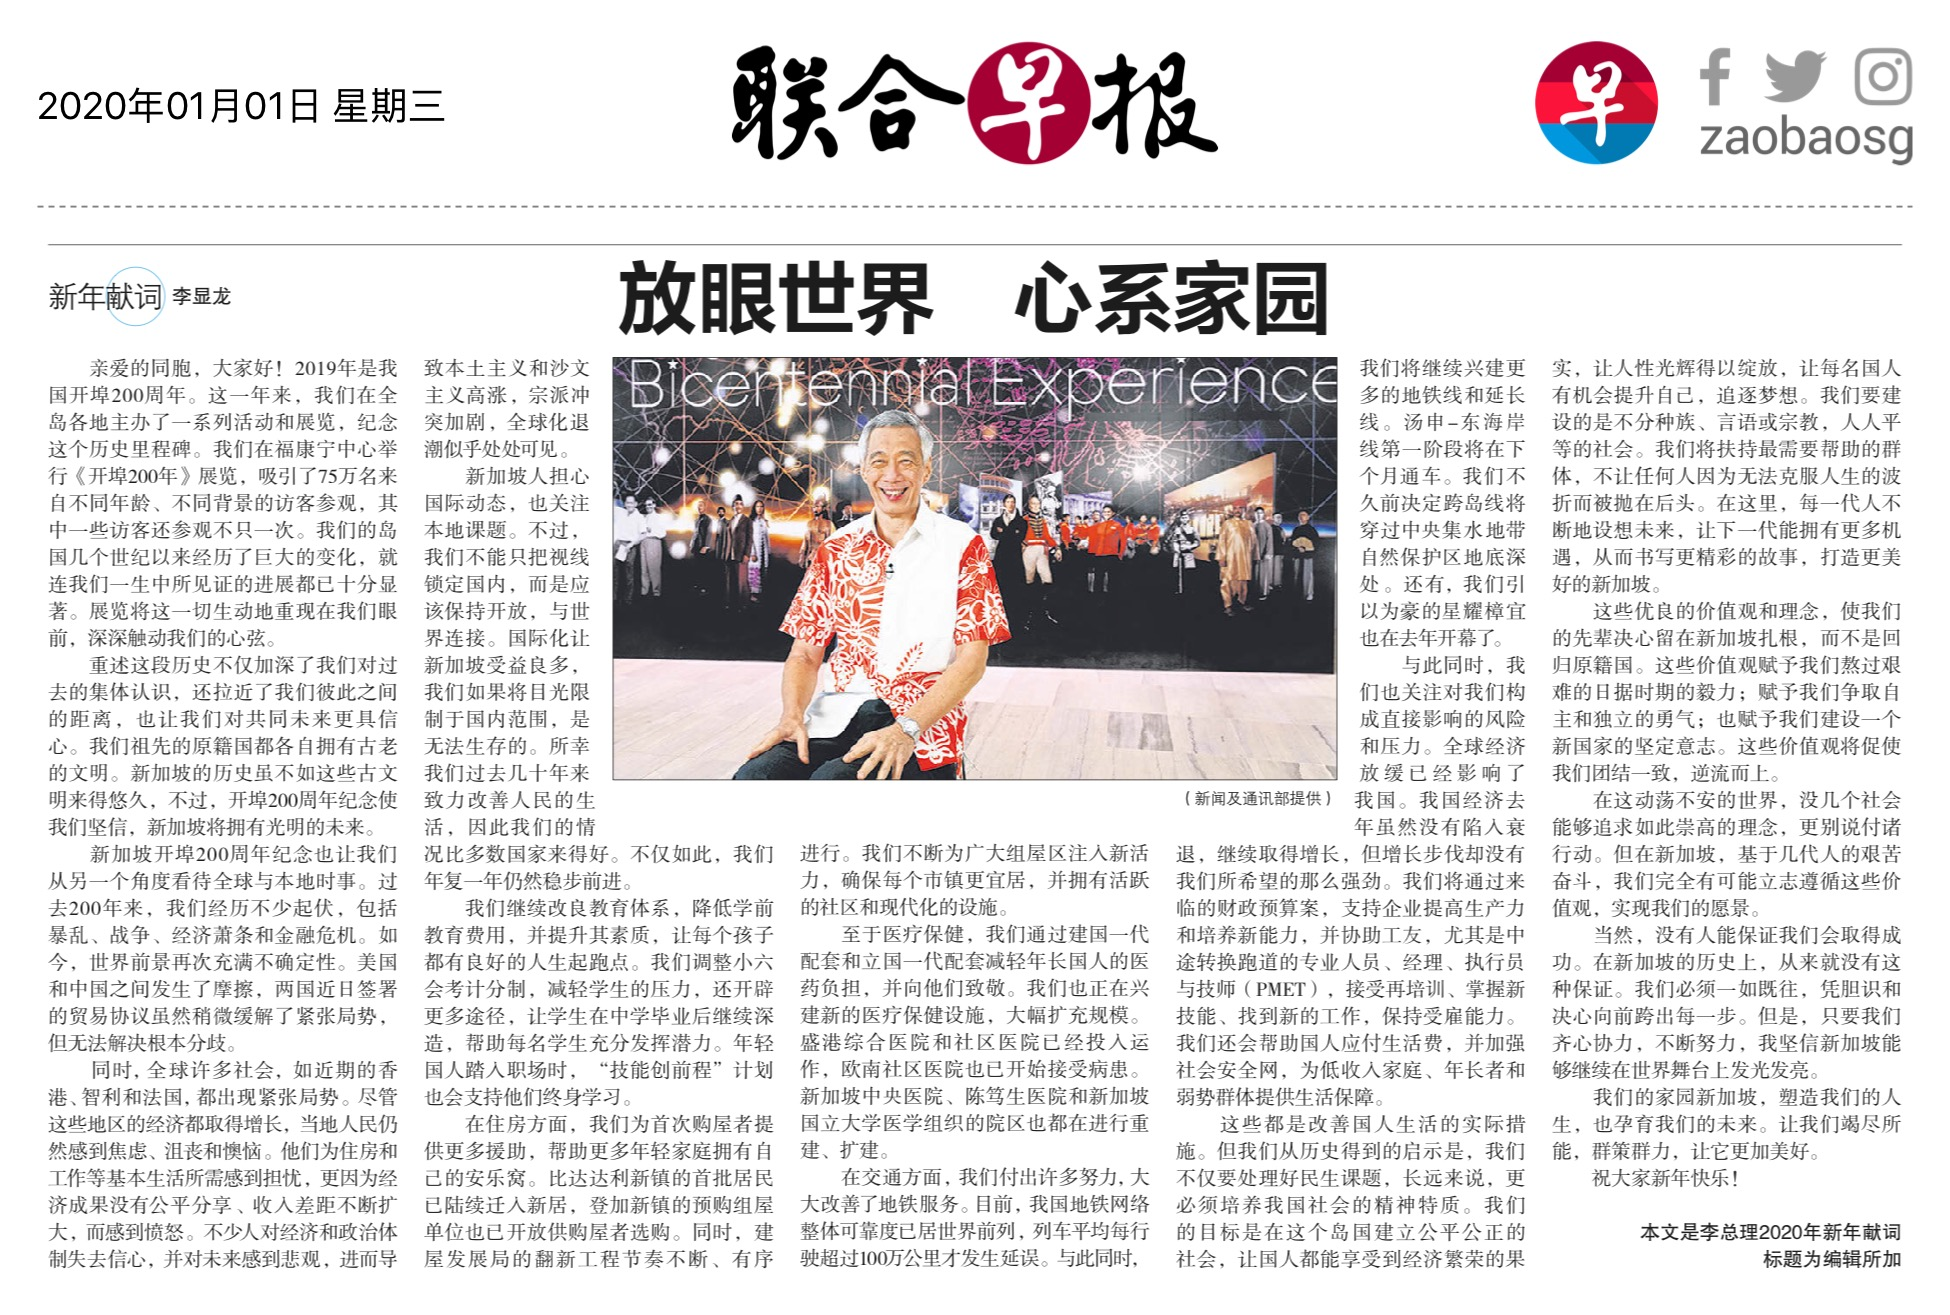heading: (618, 252, 1335, 340)
